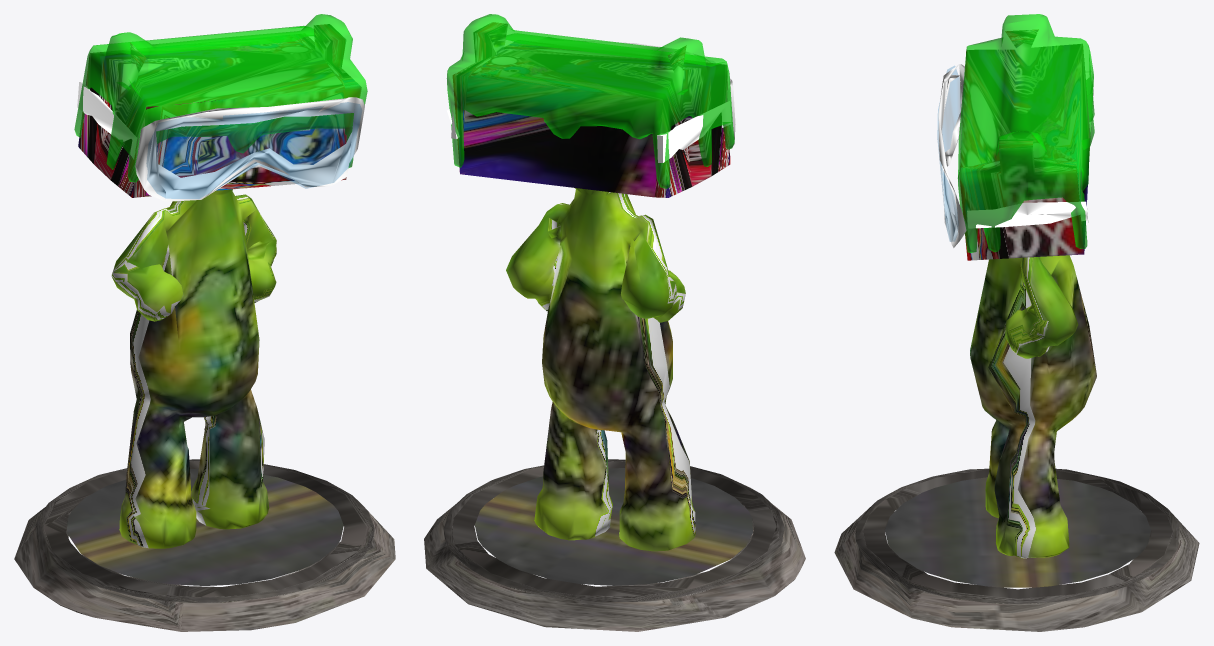
The picture shows the model from 3 angles, left to right: view 1: azimuth 30°, elevation 25°; view 2: azimuth 150°, elevation 25°; view 3: azimuth 270°, elevation 25°; orthographic projection. The views are drawn at different scales.
Size of the model in its own units: 1.44 by 2.21 by 1.44.
8 materials, 4 textured.
